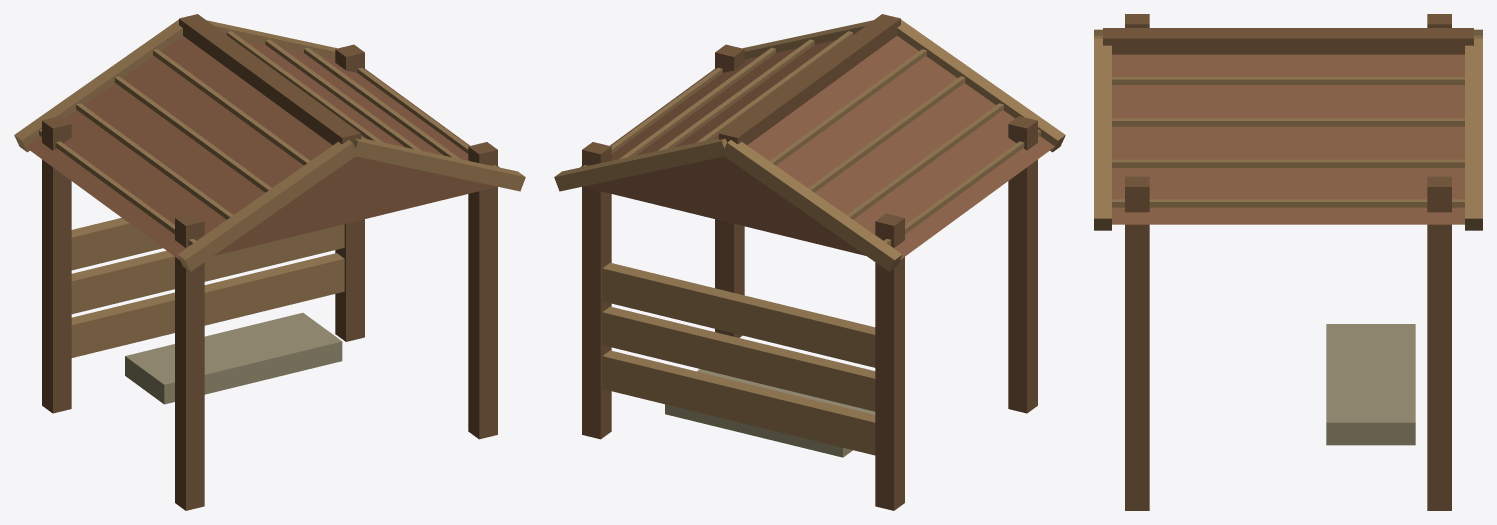
Rendered from shelter.glb.
The picture shows the model from 3 angles, left to right: view 1: azimuth 30°, elevation 25°; view 2: azimuth 150°, elevation 25°; view 3: azimuth 270°, elevation 25°; orthographic projection. The views are drawn at different scales.
Visible parts, largest first — view 1: shelter; view 2: shelter; view 3: shelter.
Part boxes in pixels (x1,y1,x2,y2): shelter: [14, 14, 525, 510]; shelter: [554, 14, 1065, 510]; shelter: [1094, 14, 1482, 510].
Size of the model in its own units: 3.25 by 3.14 by 2.83.
